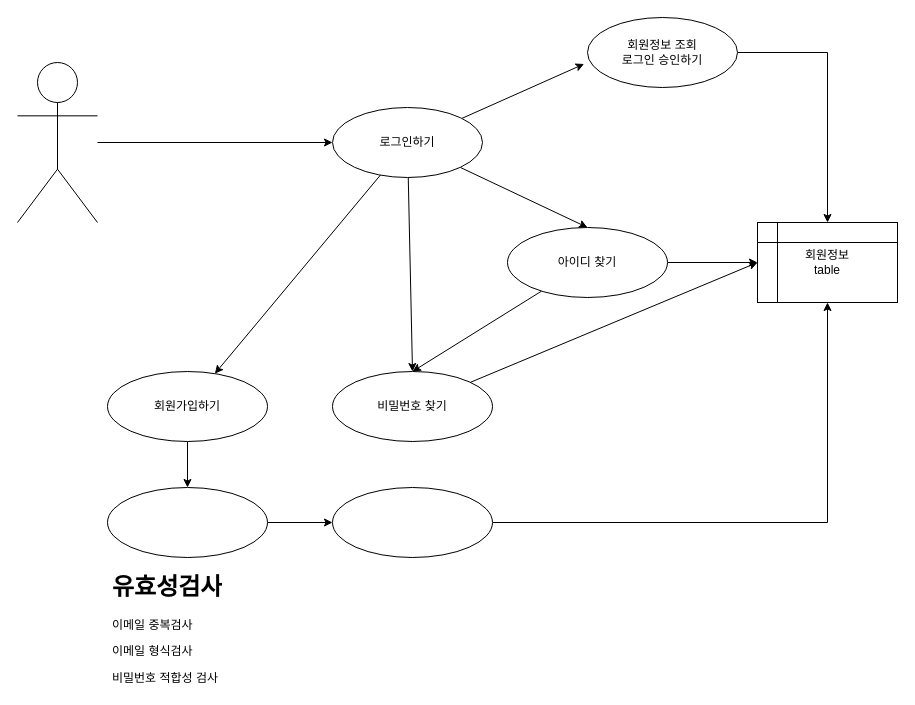
Some shapes in this 915 by 705 pixel diagram are drawn without their labels. The centre of each missing label's shape, as x and y in pixels:
"user" belongs at [57,142].
"유효성검사" belongs at [187,522].
"회원정보 저장하기" belongs at [412,522].
